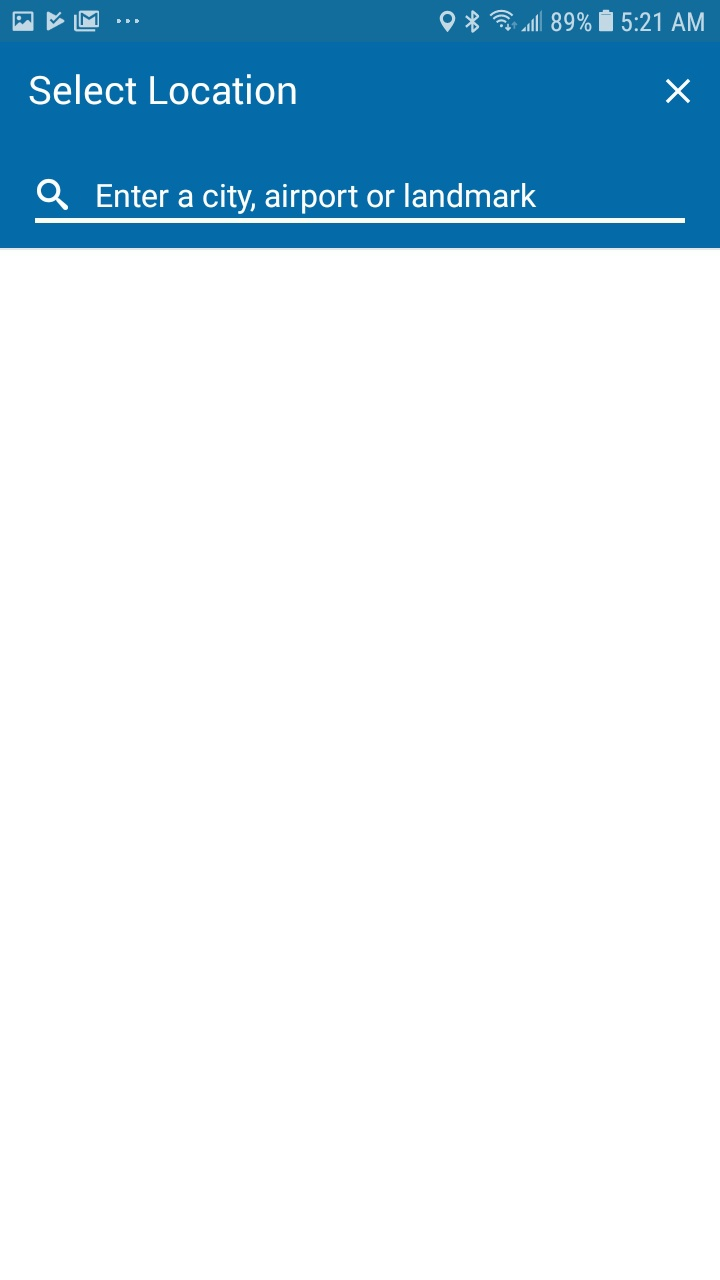EditText: (35, 179, 686, 225)
Icon: (37, 179, 70, 212), (665, 79, 691, 105)
Text: (97, 184, 537, 215), (29, 74, 298, 107)
UpperTaskBar: (1, 1, 720, 43)
